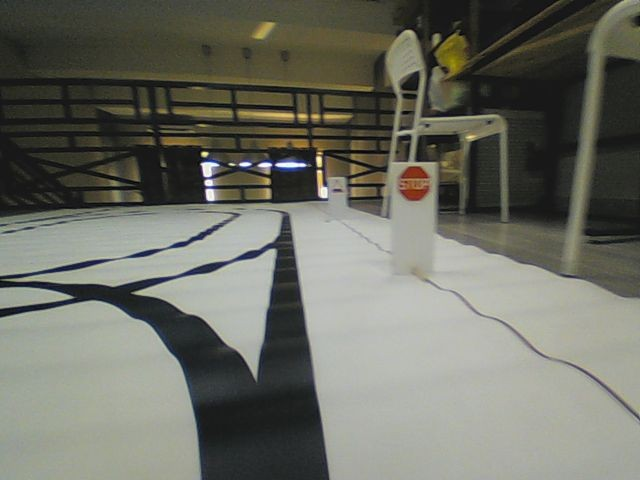Stop: (397, 164, 432, 202)
